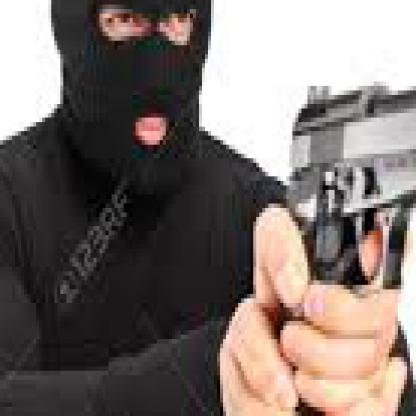gun: (283, 9, 413, 412)
